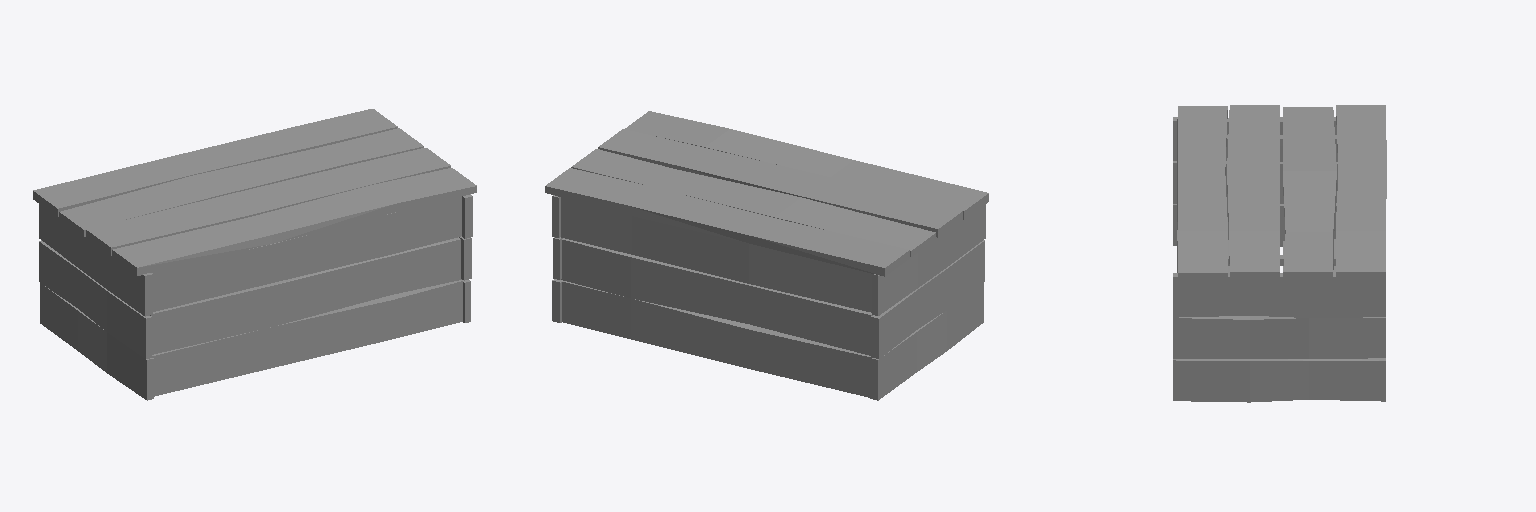
Rendered from Crate.obj.
3 views of the same model, side by side, from view 1: azimuth 30°, elevation 25°; view 2: azimuth 150°, elevation 25°; view 3: azimuth 270°, elevation 25° (orthographic).
Parts seen in each view (by area): view 1: Crate, Crate_Lid; view 2: Crate, Crate_Lid; view 3: Crate_Lid, Crate.
Part boxes in pixels (x1,y1,x2,y2): Crate: (39, 194, 472, 400); Crate_Lid: (33, 109, 476, 275); Crate: (552, 195, 985, 400); Crate_Lid: (545, 111, 988, 276); Crate_Lid: (1177, 105, 1386, 280); Crate: (1173, 117, 1385, 402).
Bounding box in the file's own units: 0.7314 × 0.28 × 0.3979.